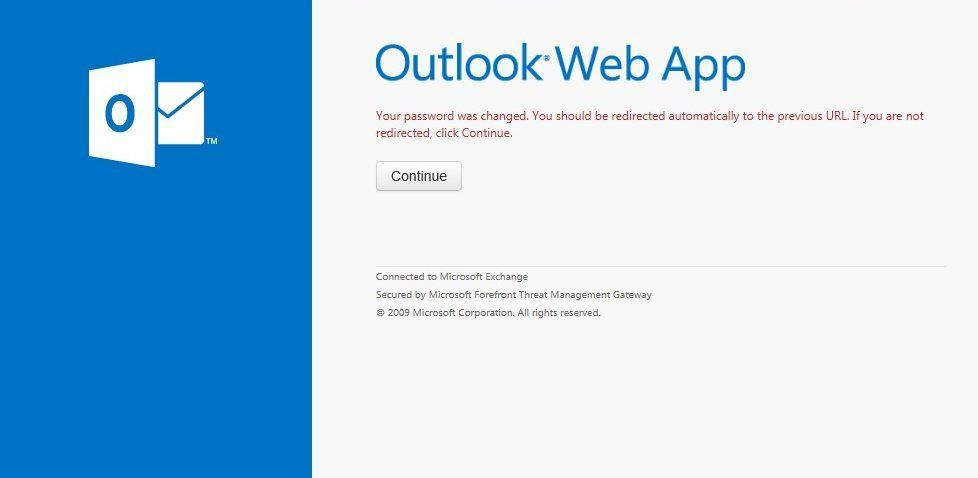button: (378, 162, 464, 192)
label: (364, 37, 750, 98), (370, 110, 929, 141)
